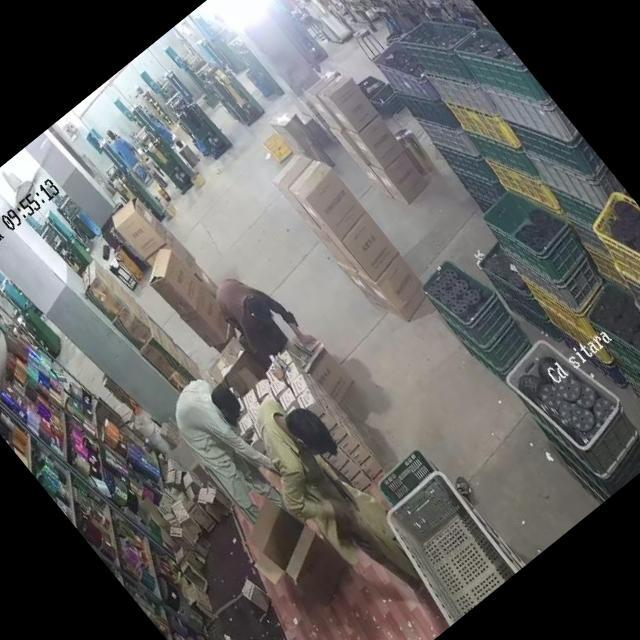person: (232, 380, 428, 599), (154, 364, 292, 518), (95, 114, 158, 185)
